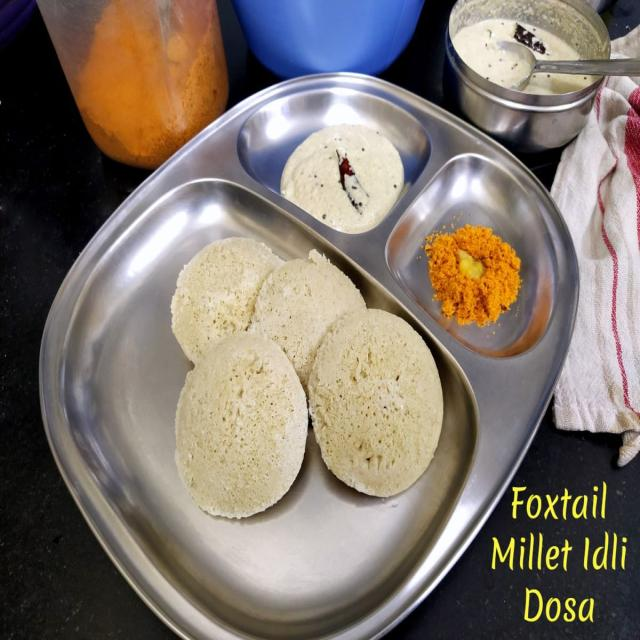Idly: (310, 302, 452, 516), (174, 324, 318, 532), (250, 235, 366, 380), (168, 228, 278, 358)
